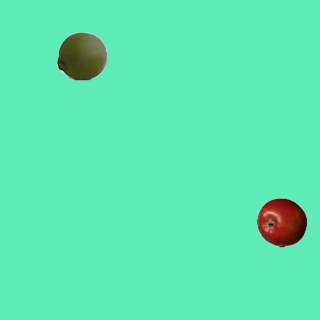Apple Braeburn: (256, 197, 306, 247)
Grape White 4: (56, 30, 106, 80)
